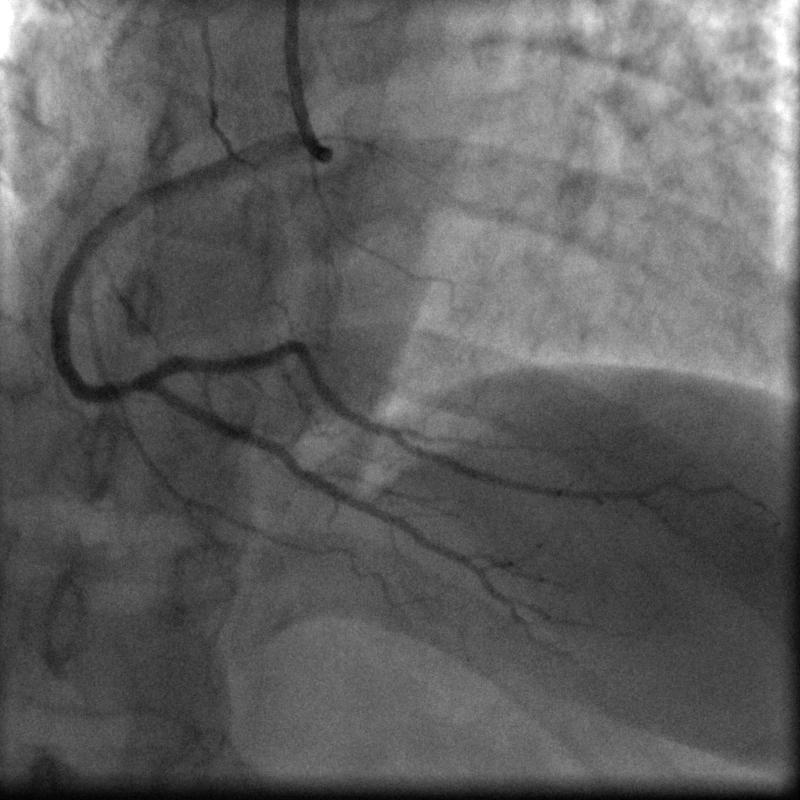Stenosis: (108, 374, 146, 401)
